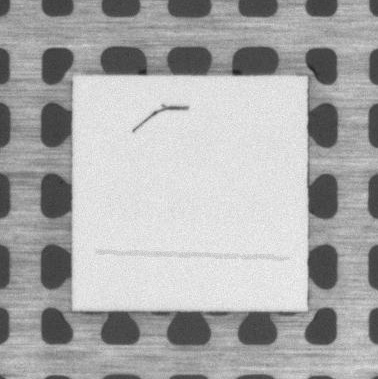DIE_CRACK: (93, 244, 290, 263)
